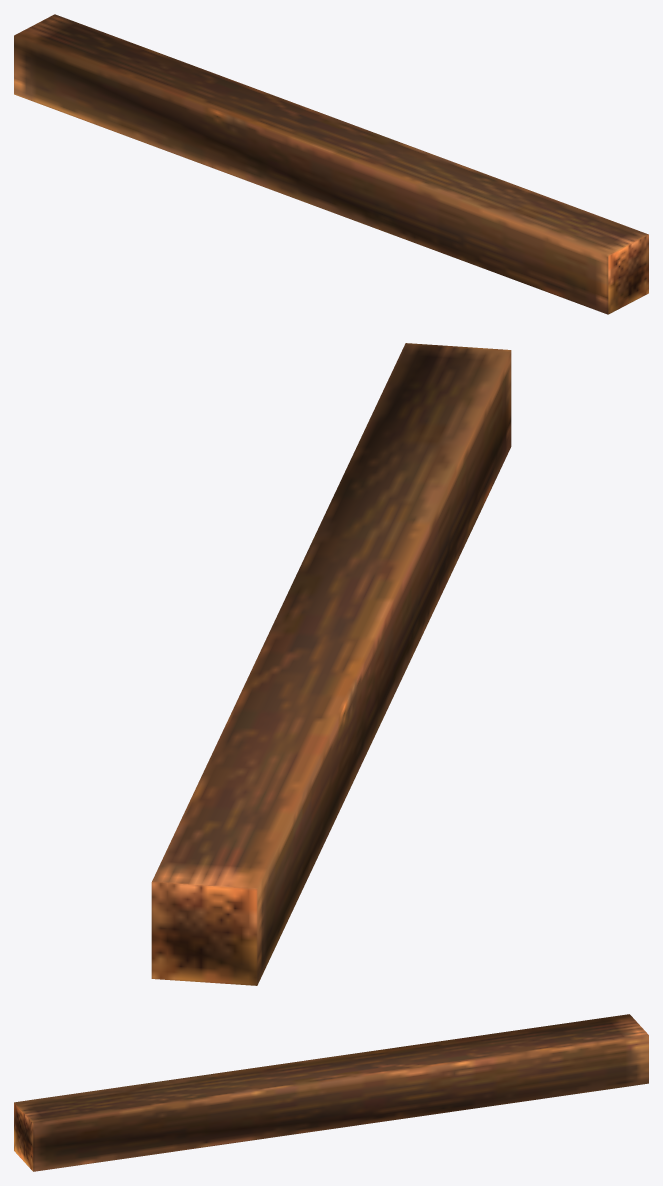
Rendered from SWORDLIGHT20_JAILBRACE101.fbx.
The picture shows the model from 3 angles, top to bottom: view 1: azimuth 30°, elevation 25°; view 2: azimuth 150°, elevation 25°; view 3: azimuth 270°, elevation 25°; orthographic projection. The views are drawn at different scales.
Parts seen in each view (by area): view 1: SWORDLIGHT20_JAILBRACE101; view 2: SWORDLIGHT20_JAILBRACE101; view 3: SWORDLIGHT20_JAILBRACE101.
Boxes of the visible parts, <box> form: SWORDLIGHT20_JAILBRACE101: <box>14,14,648,314</box>; SWORDLIGHT20_JAILBRACE101: <box>151,343,511,985</box>; SWORDLIGHT20_JAILBRACE101: <box>14,1014,648,1171</box>.
Size of the model in its own units: 19367 by 4000 by 47527.
1 material, 1 textured.
